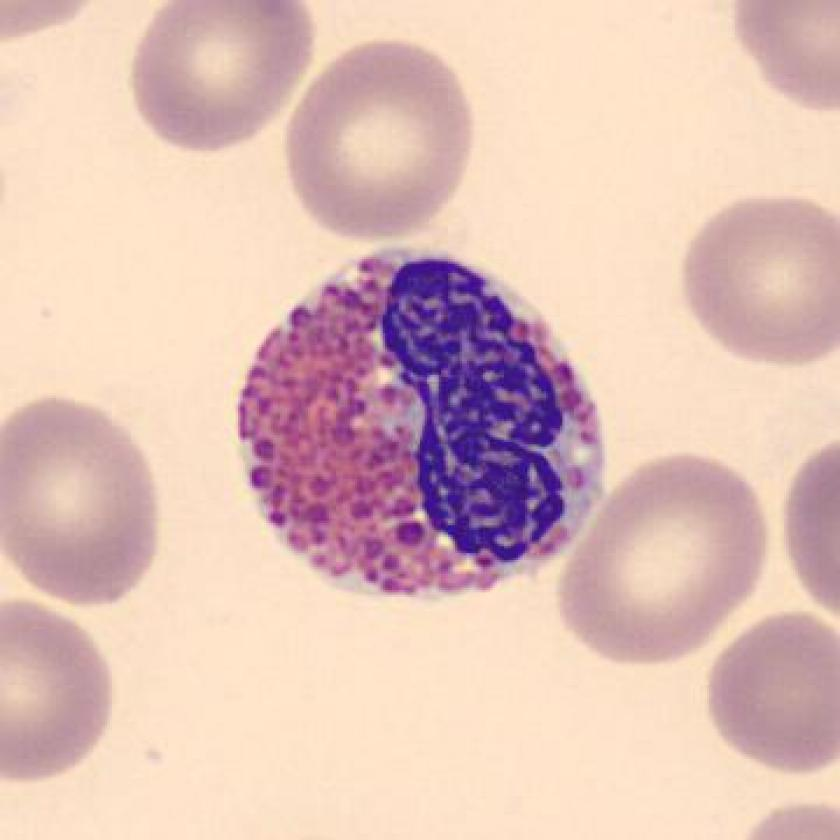eosinophil: (223, 237, 622, 610)
